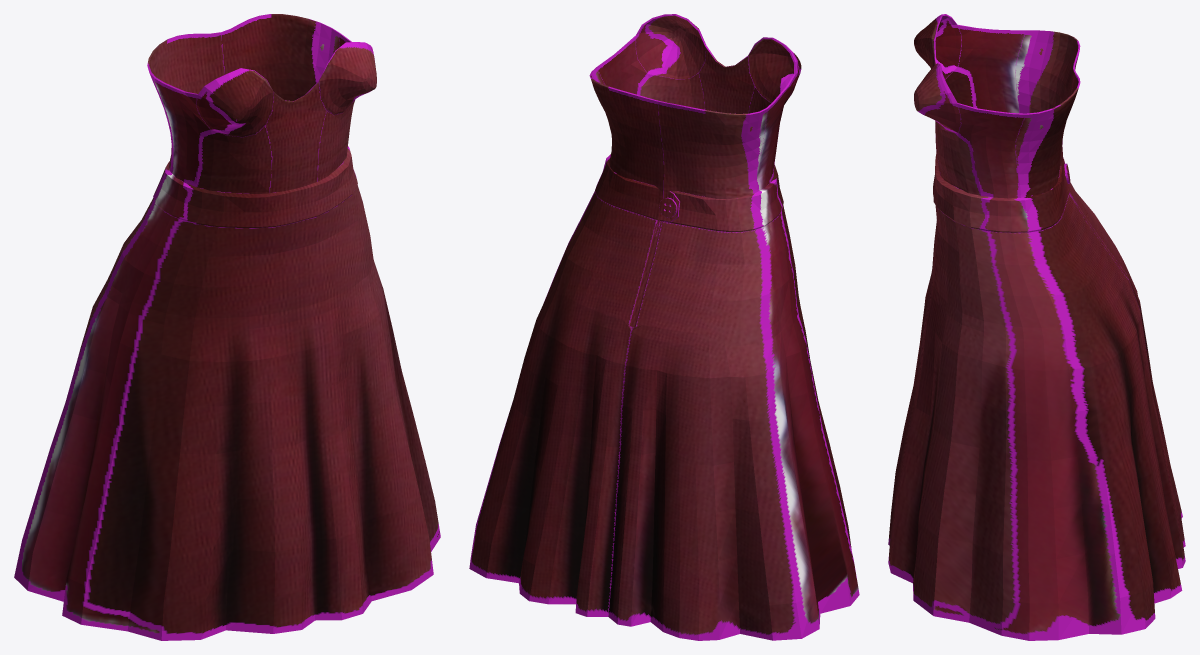
3 renders of one model, left to right at view 1: azimuth 30°, elevation 25°; view 2: azimuth 150°, elevation 25°; view 3: azimuth 270°, elevation 25°, orthographic. The views are drawn at different scales.
Bounding box in the file's own units: 0.5625 × 0.7875 × 0.4116.
1 material, 1 textured.
